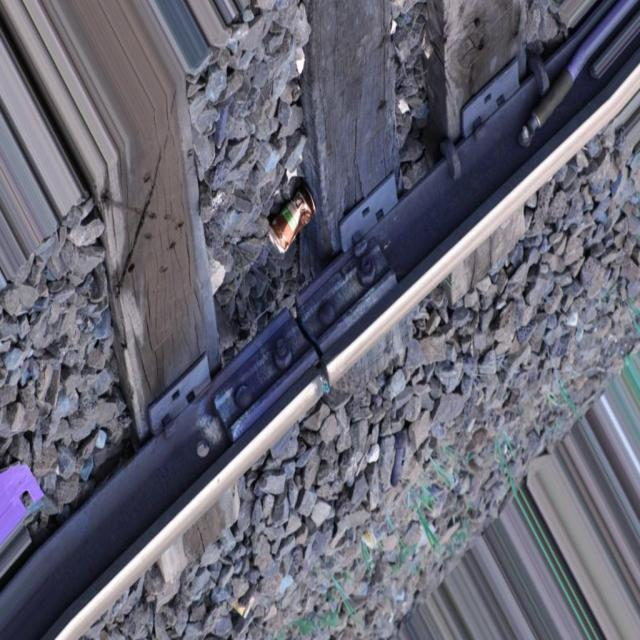Missing Dogscrew: (186, 390, 195, 402)
